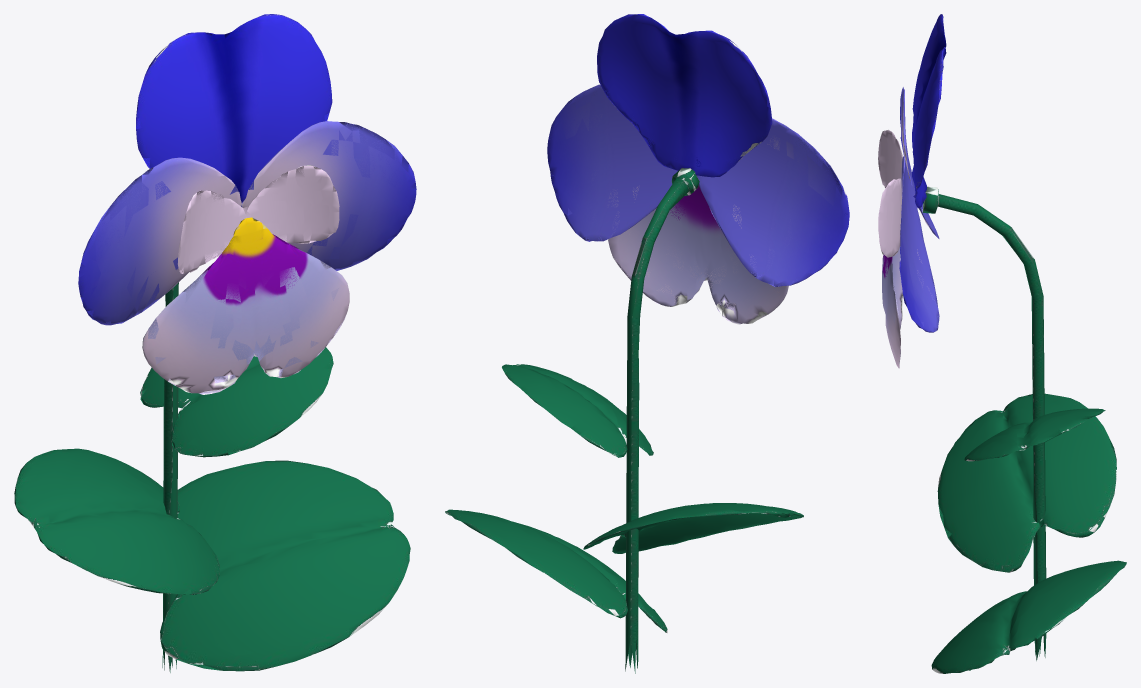
The picture shows the model from 3 angles, left to right: view 1: azimuth 30°, elevation 25°; view 2: azimuth 150°, elevation 25°; view 3: azimuth 270°, elevation 25°; orthographic projection. The views are drawn at different scales.
Parts seen in each view (by area): view 1: 7c8b525e; view 2: 7c8b525e; view 3: 7c8b525e.
Boxes of the visible parts, left/top/right/bottom form: 7c8b525e: left=14, top=14, right=416, bottom=672; 7c8b525e: left=445, top=14, right=849, bottom=673; 7c8b525e: left=878, top=14, right=1126, bottom=673.
Size of the model in its own units: 0.0913 by 0.1576 by 0.0567.
6 materials, 6 textured.
